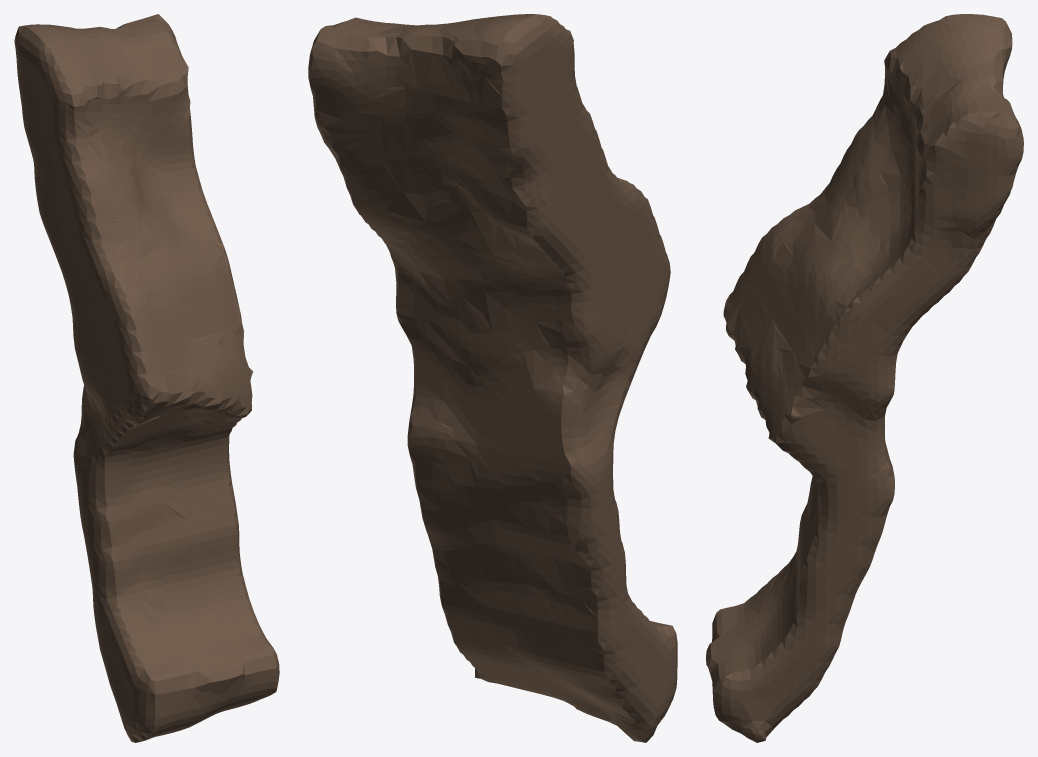
File: Model_59_RH__Area_24c_of_cortex_(A24c).obj
3 views of the same model, side by side, from view 1: azimuth 30°, elevation 25°; view 2: azimuth 150°, elevation 25°; view 3: azimuth 270°, elevation 25° (orthographic). The views are drawn at different scales.
Bounding box in the file's own units: 1.82 × 6.99 × 2.96.
